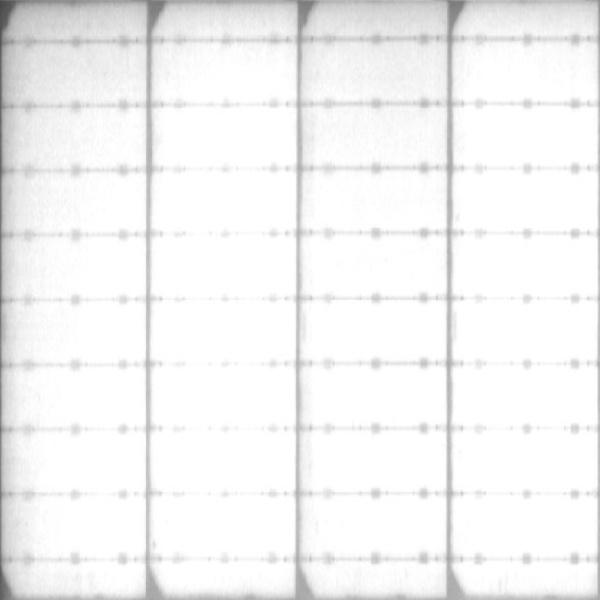hot_spot: (456, 110, 595, 165), (310, 496, 437, 553), (461, 304, 591, 359), (157, 434, 288, 488), (307, 434, 437, 488), (461, 370, 591, 422), (464, 499, 589, 553), (164, 241, 290, 294), (155, 504, 291, 553), (461, 436, 591, 487), (158, 368, 288, 419), (164, 304, 289, 356), (316, 370, 439, 420), (465, 240, 588, 288), (166, 177, 290, 224), (463, 180, 592, 225), (318, 307, 435, 356), (37, 502, 143, 555), (321, 244, 436, 284), (331, 178, 436, 218), (179, 115, 277, 156), (59, 439, 139, 487), (55, 375, 140, 419), (61, 311, 141, 349)
